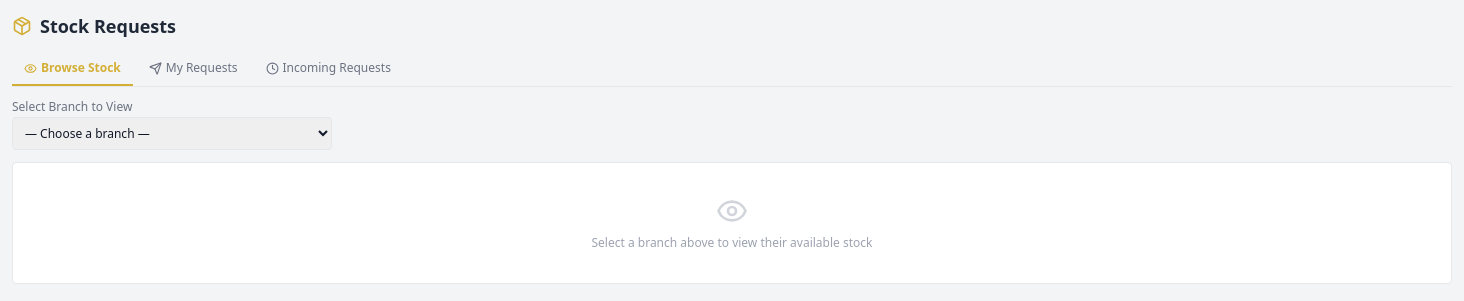
Test: My Requests Tab › loads outgoing requests on tab click
Click the button "My Requests": (193, 69) [137,52,250,86]
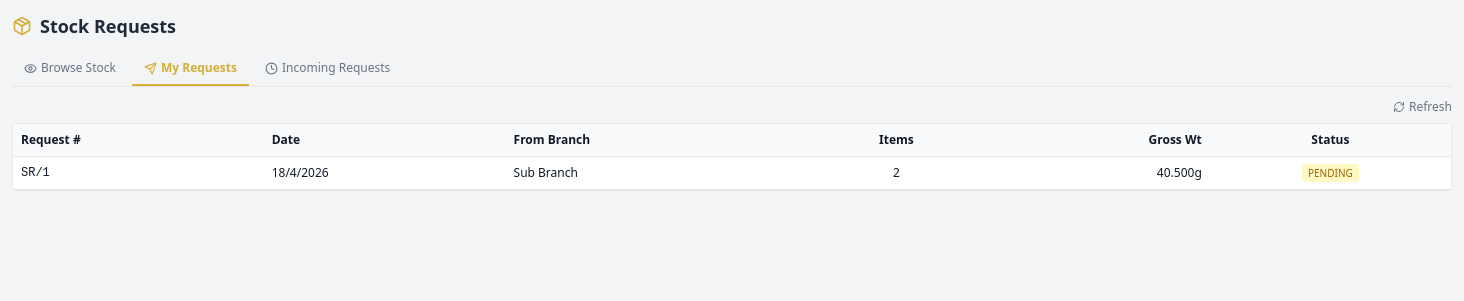
Now the text "SR/1" is shown, box [13,156,264,190]
Now the text "Sub Branch" is shown, box [506,156,812,190]
Now the text "PENDING" is shown, box [1302,164,1359,182]
